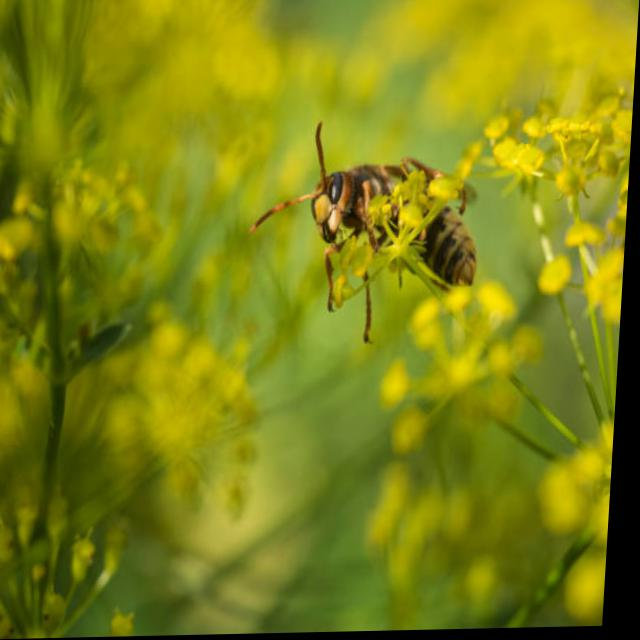Vespa Crabro: (240, 101, 496, 322)
